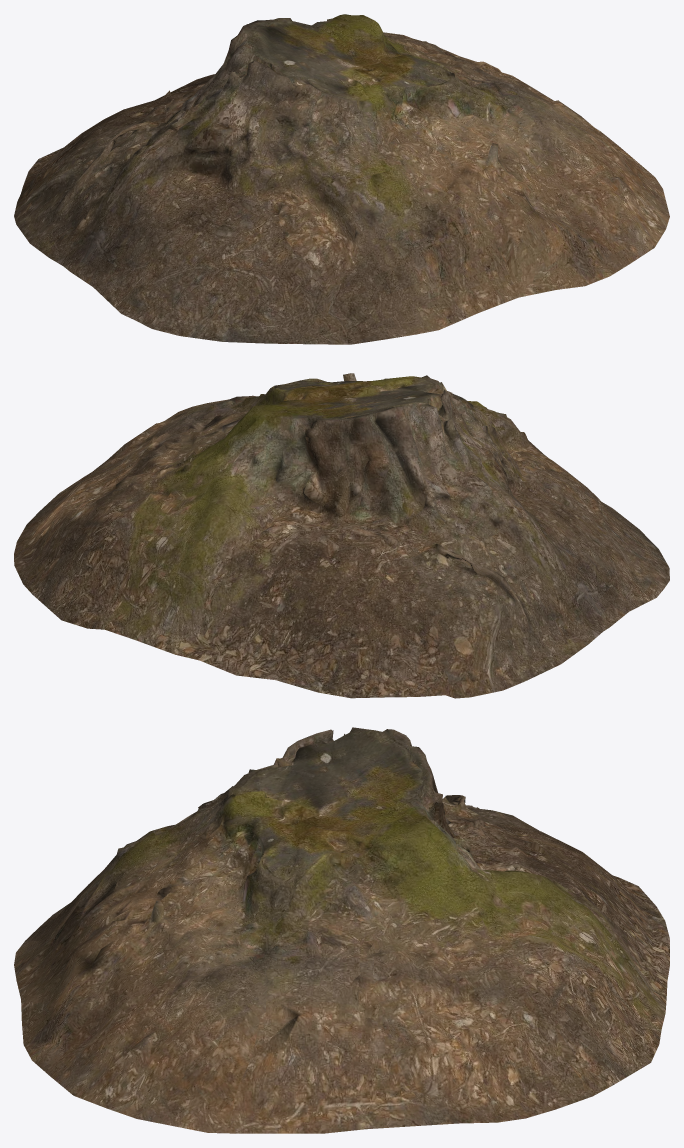
The model's file is tree_stump_02.glb.
3 views of the same model, one above another, from view 1: azimuth 30°, elevation 25°; view 2: azimuth 150°, elevation 25°; view 3: azimuth 270°, elevation 25° (orthographic). The views are drawn at different scales.
Parts seen in each view (by area): view 1: tree_stump_02__lodS; view 2: tree_stump_02__lodS; view 3: tree_stump_02__lodS.
Part boxes in pixels (left/top/right/bottom): tree_stump_02__lodS: left=14, top=14, right=669, bottom=344; tree_stump_02__lodS: left=14, top=373, right=669, bottom=698; tree_stump_02__lodS: left=14, top=727, right=669, bottom=1133.
Size of what is drawn, in the model's own units: 1.52 by 0.5214 by 1.39.
Materials: 1 (1 with a texture image).
